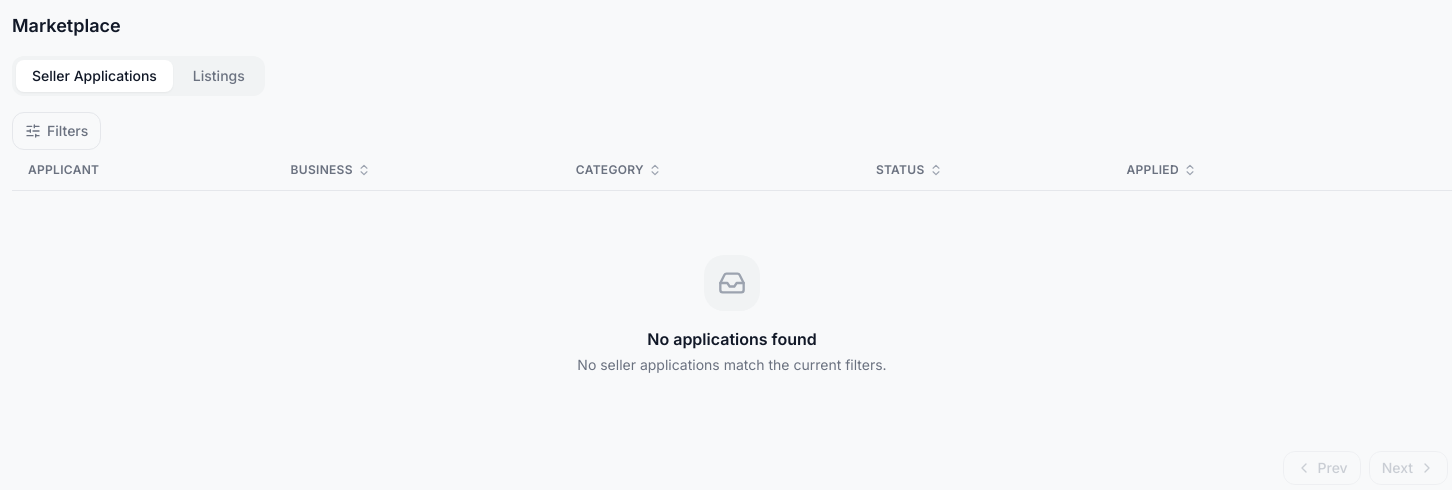
MarketplacePage › renders listing rows in listings tab
The image size is (1452, 490).
Click the button with test id "tab-listings" at (219,76), box [177, 60, 261, 92]
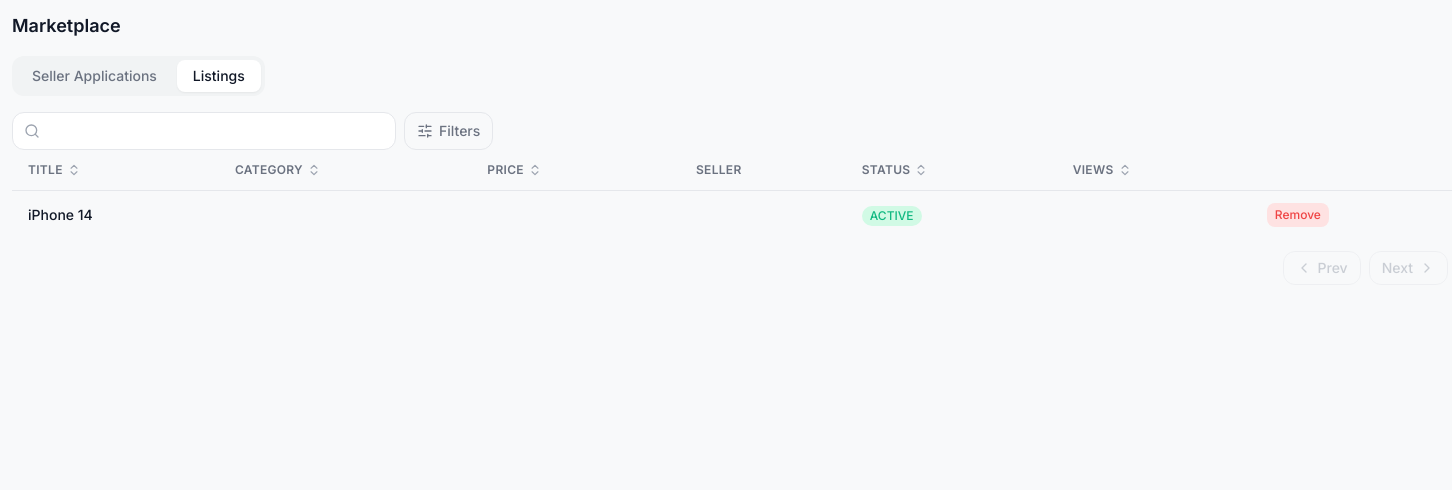
Check: the text "iPhone 14" is shown, box [28, 206, 93, 223]
